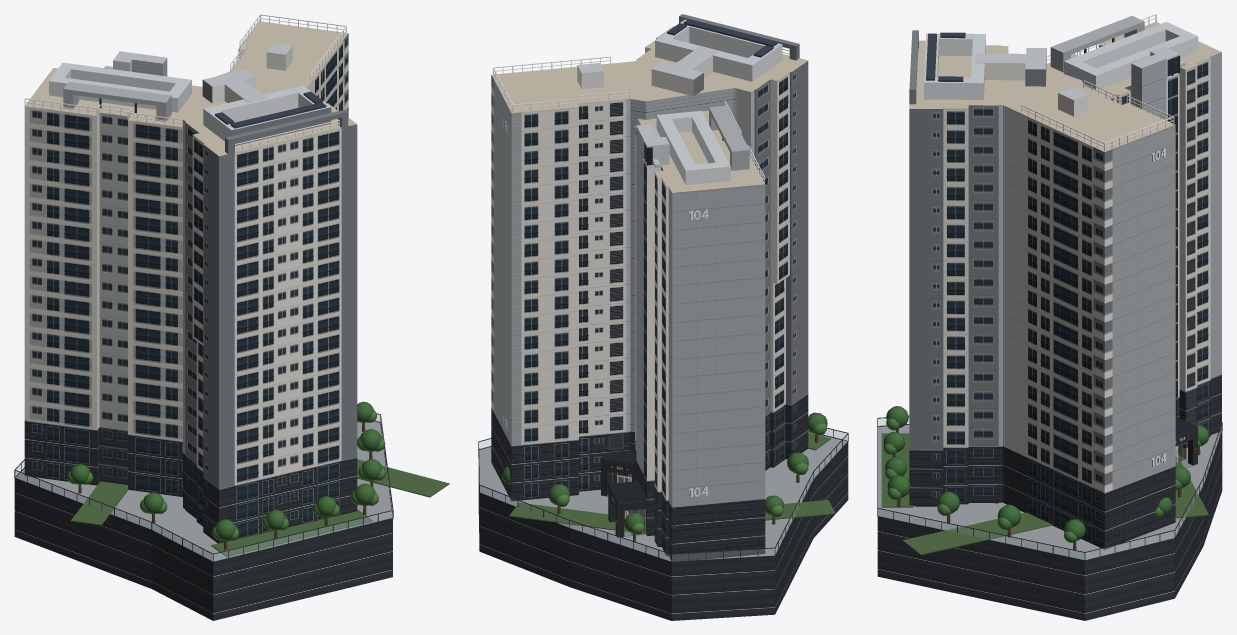
Rendered from place_금파힐104.glb.
The picture shows the model from 3 angles, left to right: view 1: azimuth 30°, elevation 25°; view 2: azimuth 150°, elevation 25°; view 3: azimuth 270°, elevation 25°; orthographic projection. The views are drawn at different scales.
Visible parts, largest first — view 1: WingC_South_21F, WingA_NW_20F_85sqm, KumhoParkHills_104, WingB_NE_21F; view 2: WingB_NE_21F, WingA_NW_20F_85sqm, KumhoParkHills_104, WingC_South_21F; view 3: WingB_NE_21F, WingC_South_21F, KumhoParkHills_104, WingA_NW_20F_85sqm.
Boxes of the visible parts, x1,y1,x2,y2 form: WingC_South_21F: [183, 69, 357, 543]; WingA_NW_20F_85sqm: [24, 51, 206, 496]; KumhoParkHills_104: [14, 66, 449, 620]; WingB_NE_21F: [228, 14, 348, 116]; WingB_NE_21F: [491, 56, 648, 501]; WingA_NW_20F_85sqm: [608, 100, 765, 561]; KumhoParkHills_104: [478, 61, 848, 620]; WingC_South_21F: [635, 14, 808, 470]; WingB_NE_21F: [1001, 79, 1175, 549]; WingC_South_21F: [909, 30, 1046, 506]; KumhoParkHills_104: [877, 49, 1222, 620]; WingA_NW_20F_85sqm: [1046, 14, 1221, 468].
Bounding box in the file's own units: 50.07 × 66.66 × 43.8.
Materials: 192 (79 with a texture image).
